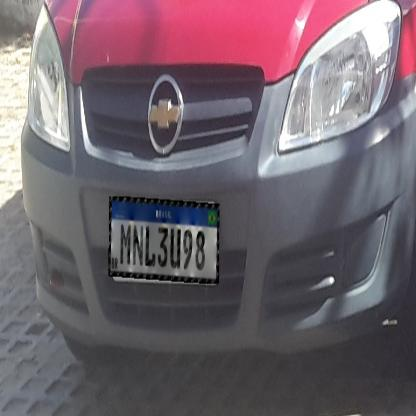PlacaM: (108, 196, 219, 284)
